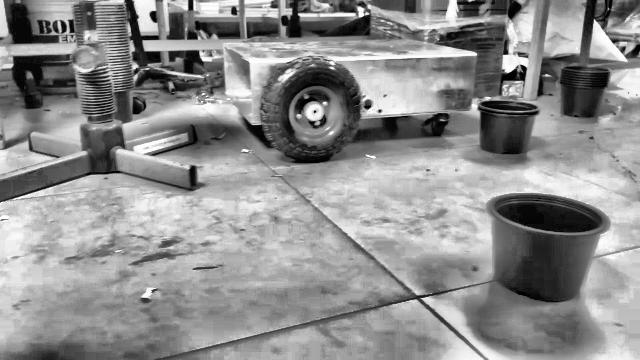pot: (489, 193, 607, 301), (478, 101, 539, 153), (561, 66, 610, 117)
